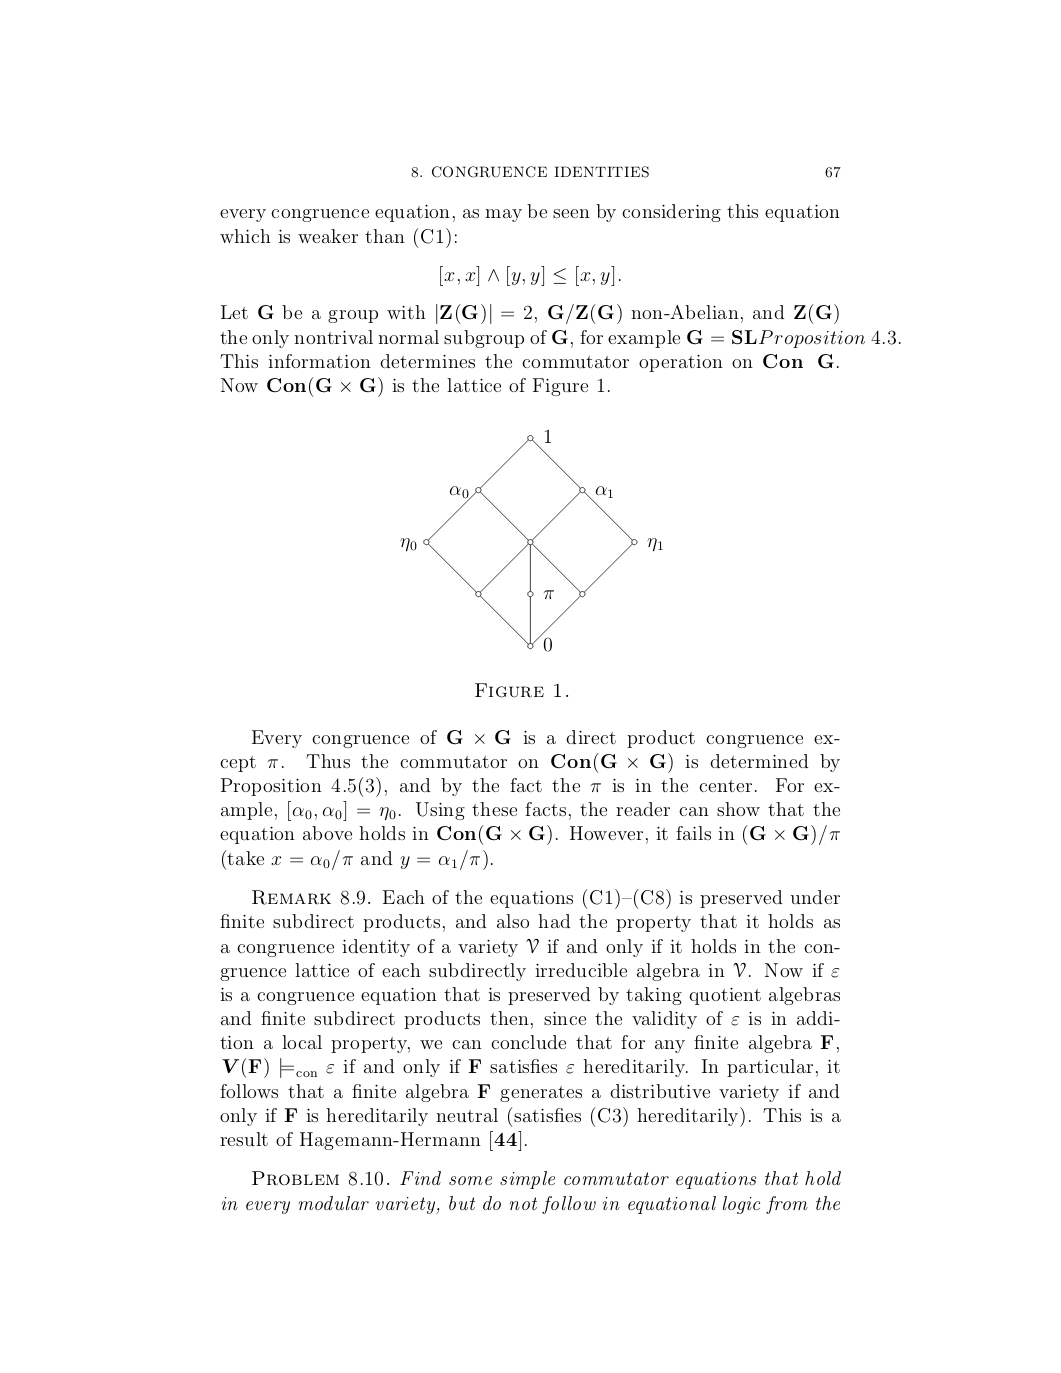figure: (400, 428, 662, 652)
formula: (222, 849, 491, 870), (440, 265, 620, 286)
